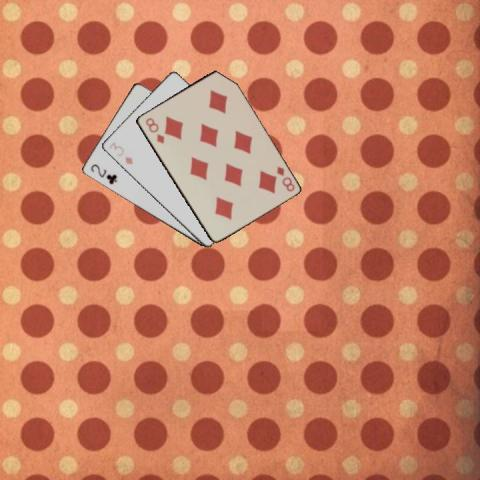2c: (87, 161, 118, 186)
3d: (106, 139, 134, 166)
8d: (142, 114, 165, 144), (273, 162, 296, 192)
